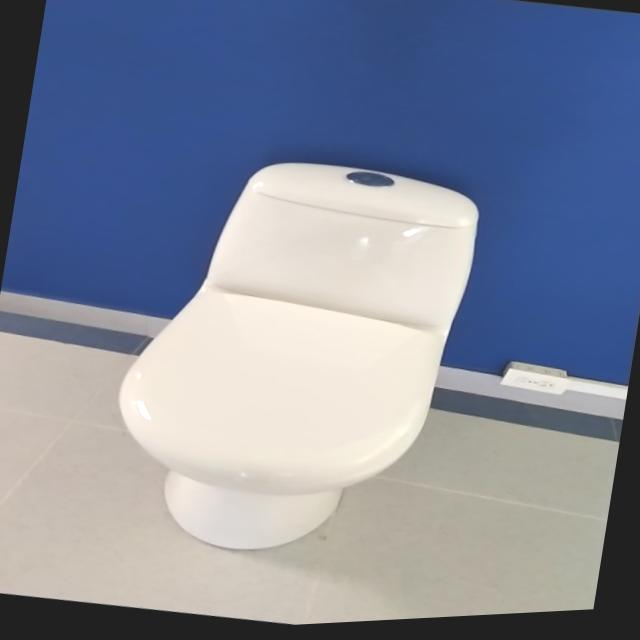toilet: (95, 133, 487, 588)
